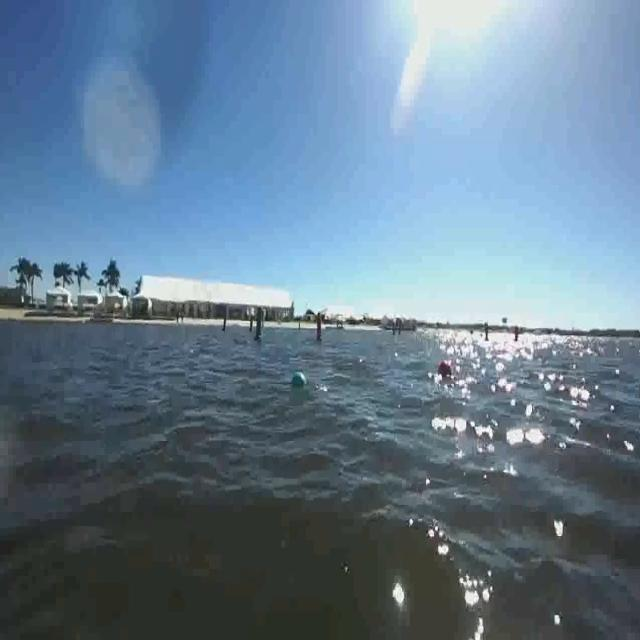green-buoy: (290, 372, 304, 390)
green-column-buoy: (253, 308, 264, 342)
red-buoy: (437, 358, 453, 382)
red-column-buoy: (314, 311, 324, 340)
